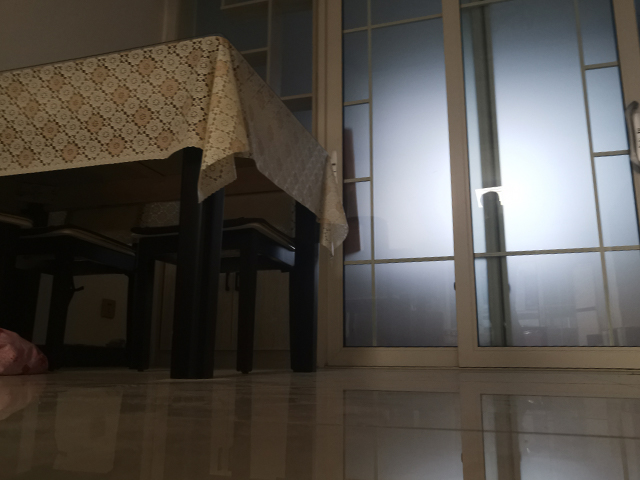stool: (136, 210, 322, 375), (3, 218, 152, 373)
table: (1, 32, 330, 381)
